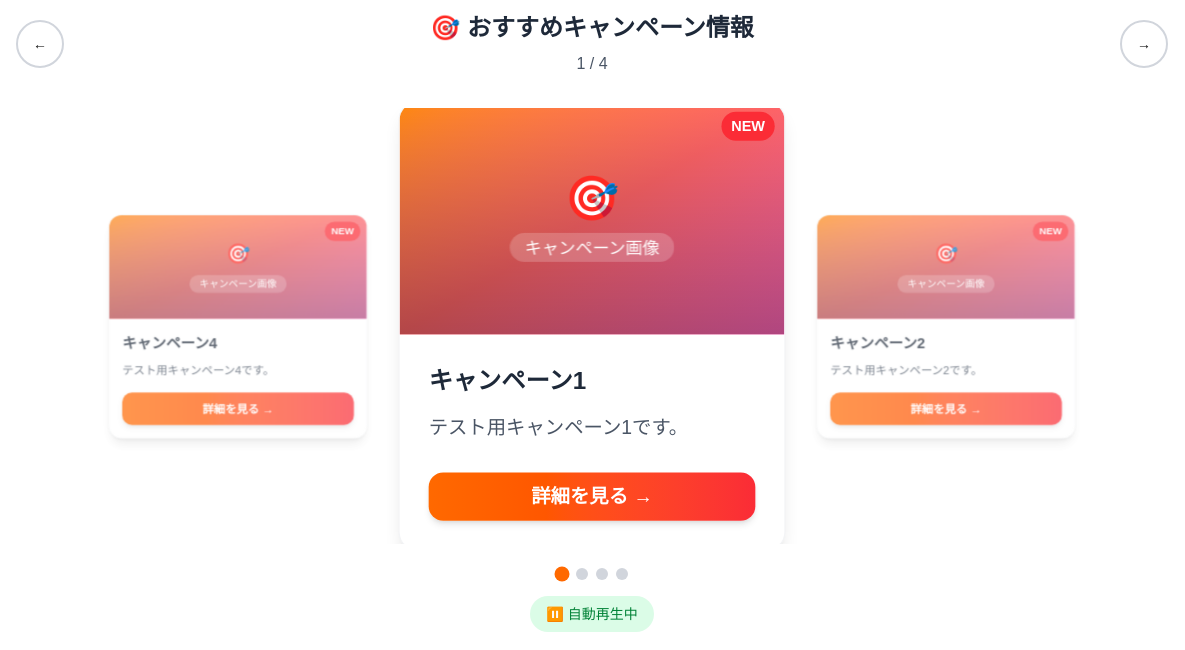
Test case: CampaignCarousel コンポーネント › 自動再生トグルボタンをクリックすると状態が変わる
The image size is (1185, 650).
Click the button "⏸️ 自動再生中" at (592, 614), box 530,596 -> 654,632
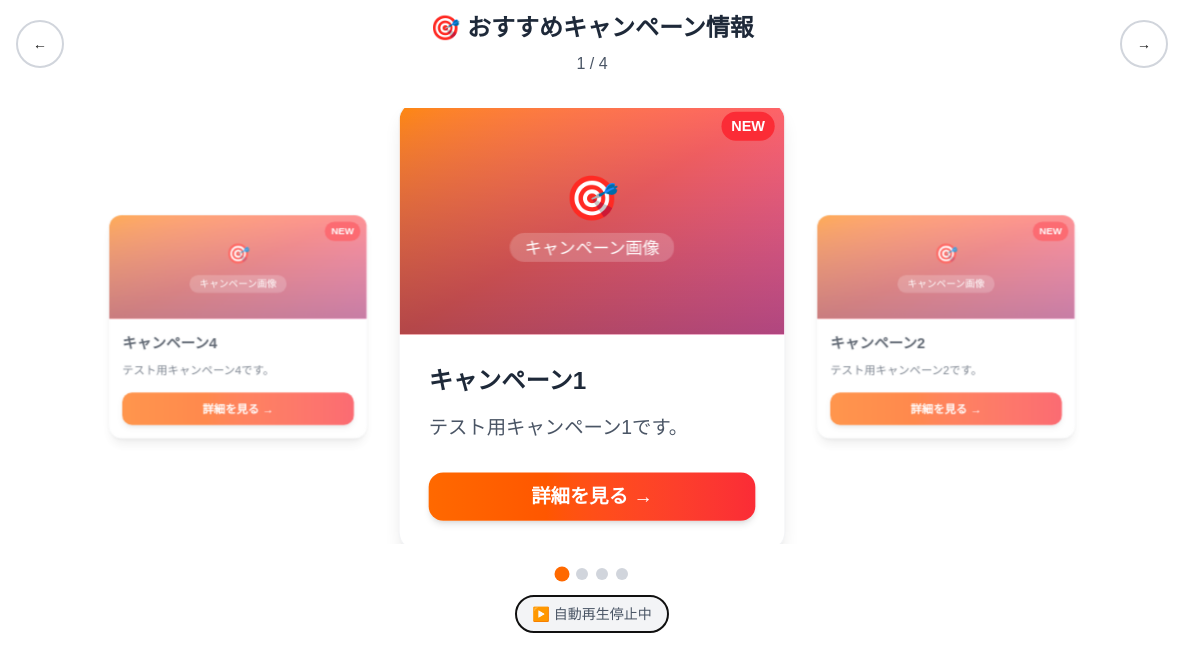
Check: the button "▶️ 自動再生停止中" is shown, box 516,596 -> 668,632
